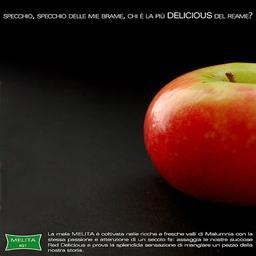apple: (142, 62, 256, 206)
